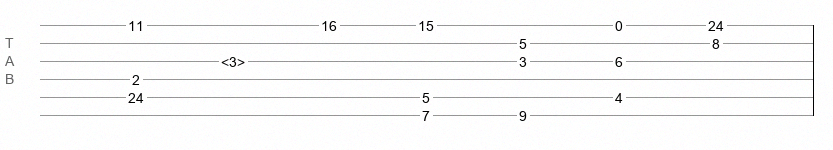0: (615, 18, 623, 28)
11: (128, 18, 144, 28)
15: (418, 18, 434, 28)
16: (321, 18, 337, 28)
2: (132, 72, 140, 82)
24: (128, 90, 144, 100), (708, 18, 724, 28)
3: (519, 54, 527, 64)
4: (615, 90, 623, 100)
5: (422, 90, 430, 100), (519, 36, 527, 46)
6: (615, 54, 623, 64)
7: (422, 108, 430, 118)
8: (712, 36, 720, 46)
9: (519, 108, 527, 118)
harmonic: (221, 54, 245, 64)
